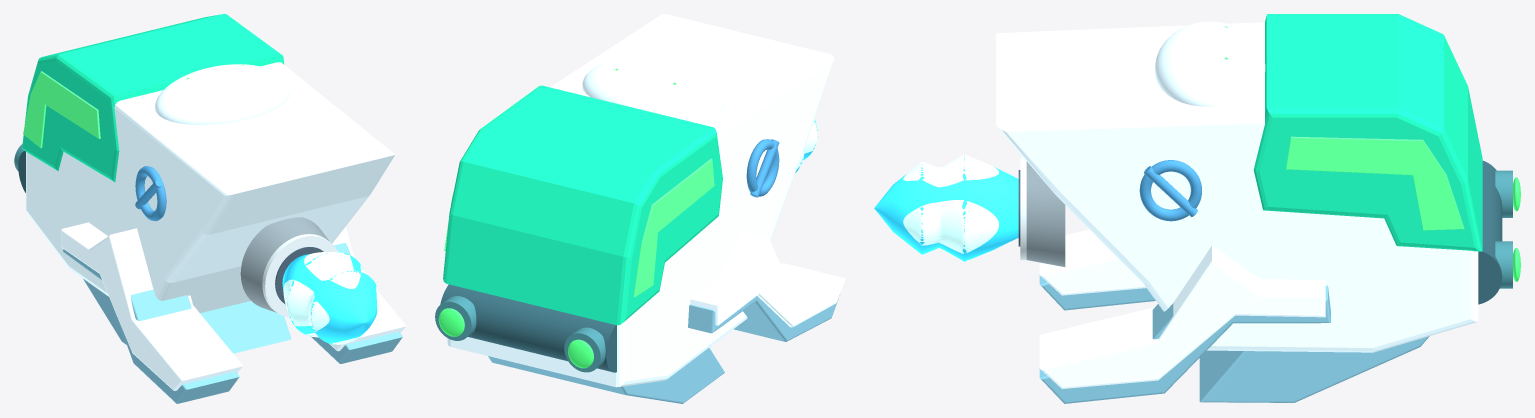
File: ship-08.glb
The picture shows the model from 3 angles, left to right: view 1: azimuth 30°, elevation 25°; view 2: azimuth 150°, elevation 25°; view 3: azimuth 270°, elevation 25°; orthographic projection. The views are drawn at different scales.
Visible parts, largest first — view 1: 디스커버리 N, engine-flame; view 2: 디스커버리 N, engine-flame; view 3: 디스커버리 N, engine-flame.
Part boxes in pixels (<box>): 디스커버리 N: <box>14,14,406,403</box>; engine-flame: <box>282,251,379,344</box>; 디스커버리 N: <box>435,14,845,403</box>; engine-flame: <box>795,118,817,172</box>; 디스커버리 N: <box>996,14,1520,403</box>; engine-flame: <box>874,154,1018,261</box>.
Bounding box in the file's own units: 15.68 × 18.64 × 33.28.
